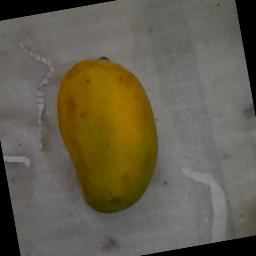Mango Ripe: (12, 0, 256, 256)
